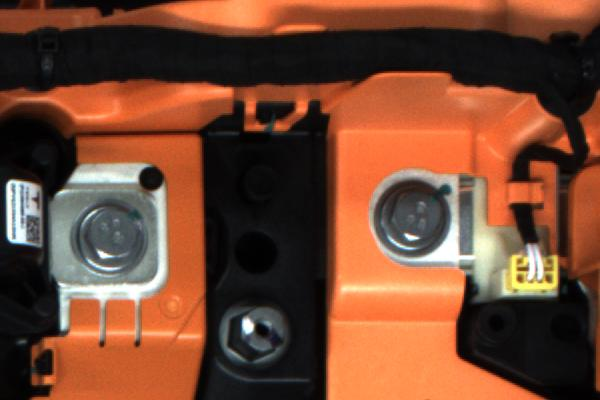nut_b: (359, 170, 458, 264), (59, 190, 157, 281)
